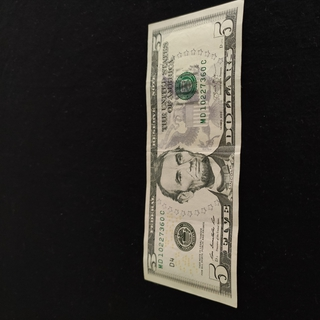5USDFront: (142, 0, 244, 309)
